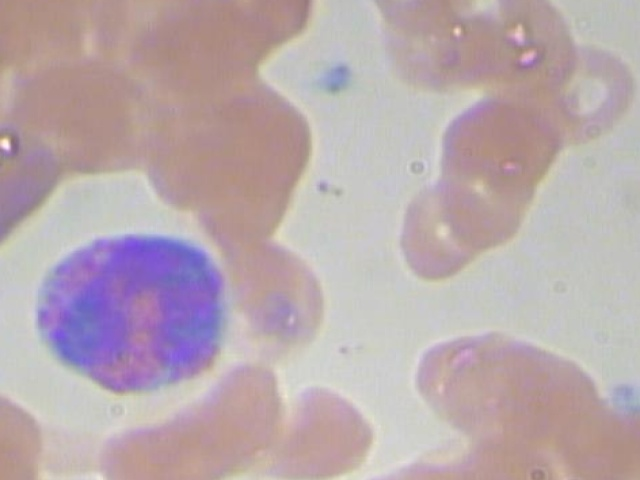Platelets: (314, 59, 361, 105)
RBC: (218, 228, 338, 355), (514, 38, 640, 147), (378, 175, 499, 287), (257, 375, 379, 480), (0, 374, 56, 480)
WBC: (20, 225, 241, 401)
